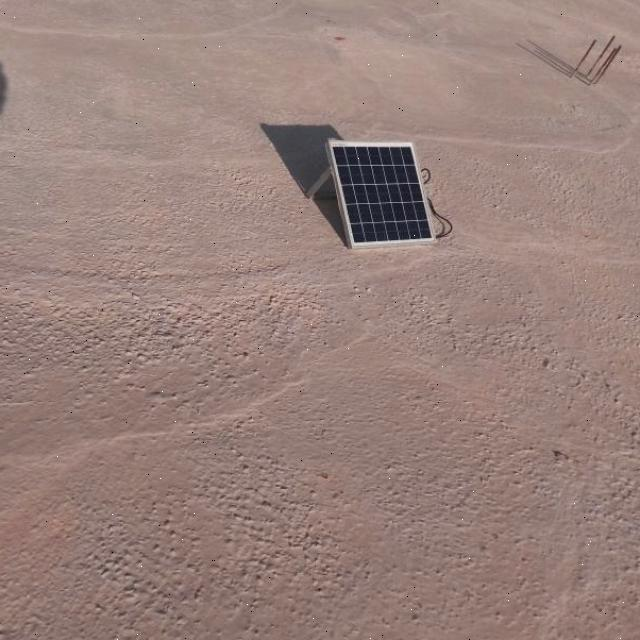Normal Solar Panel: (330, 140, 436, 248)
